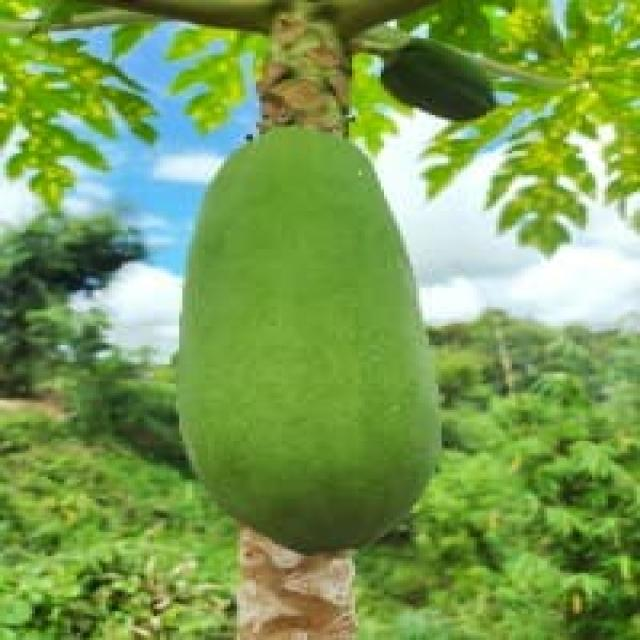Pepaya: (170, 122, 444, 554)
